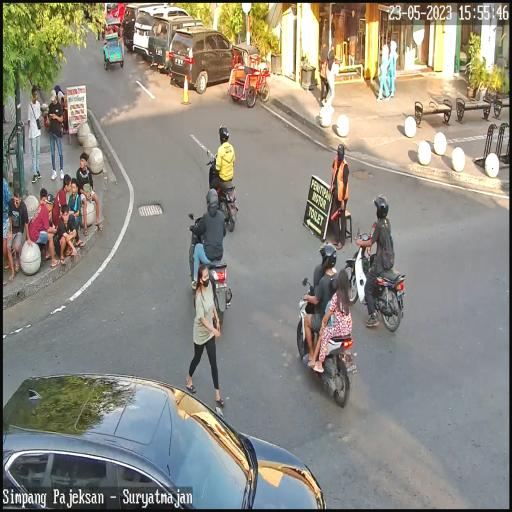mobil: (0, 366, 322, 512), (168, 27, 244, 91), (148, 13, 212, 73), (134, 4, 193, 63)
motor: (296, 268, 356, 402), (345, 220, 407, 335), (180, 210, 233, 331), (204, 146, 242, 233)
